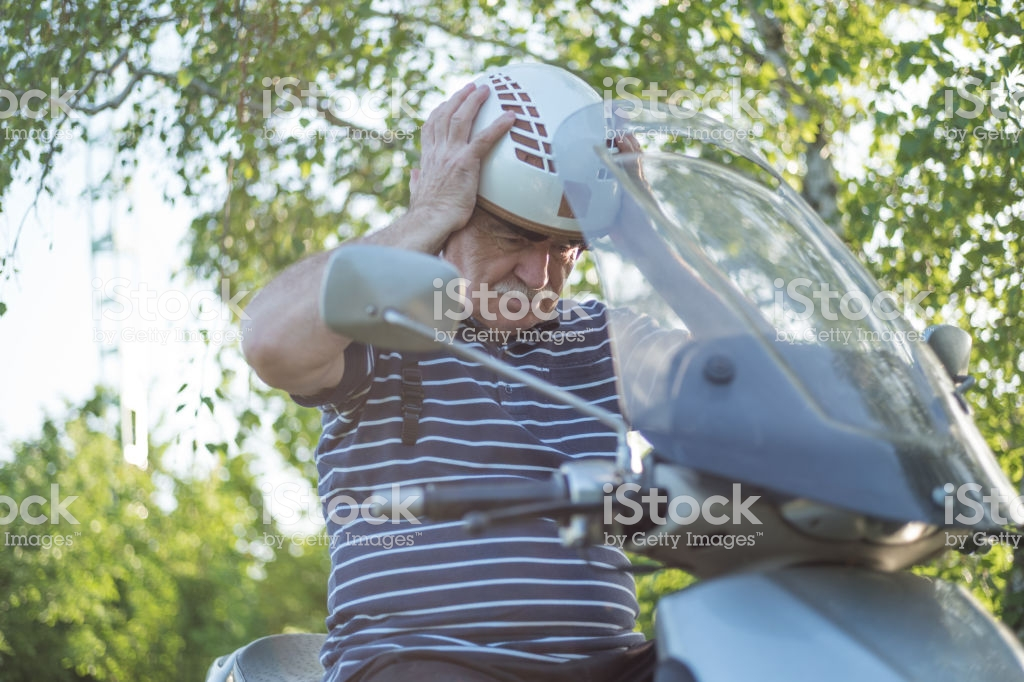helmet: (438, 64, 631, 230)
